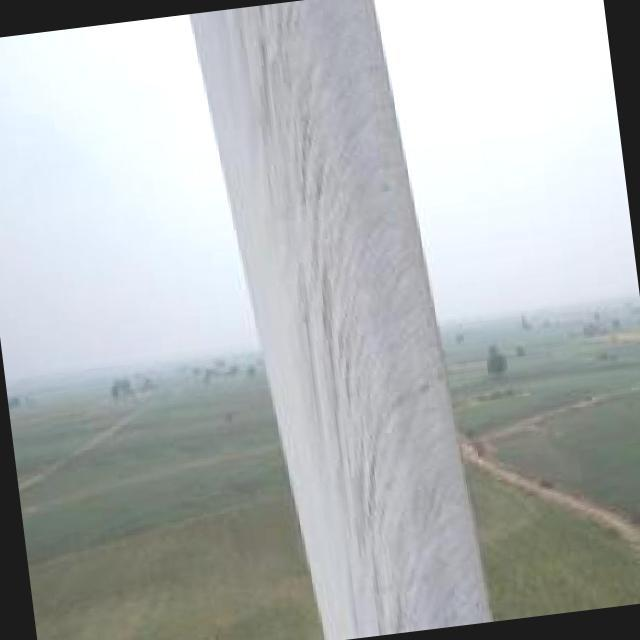Dirt: (231, 8, 499, 637)
